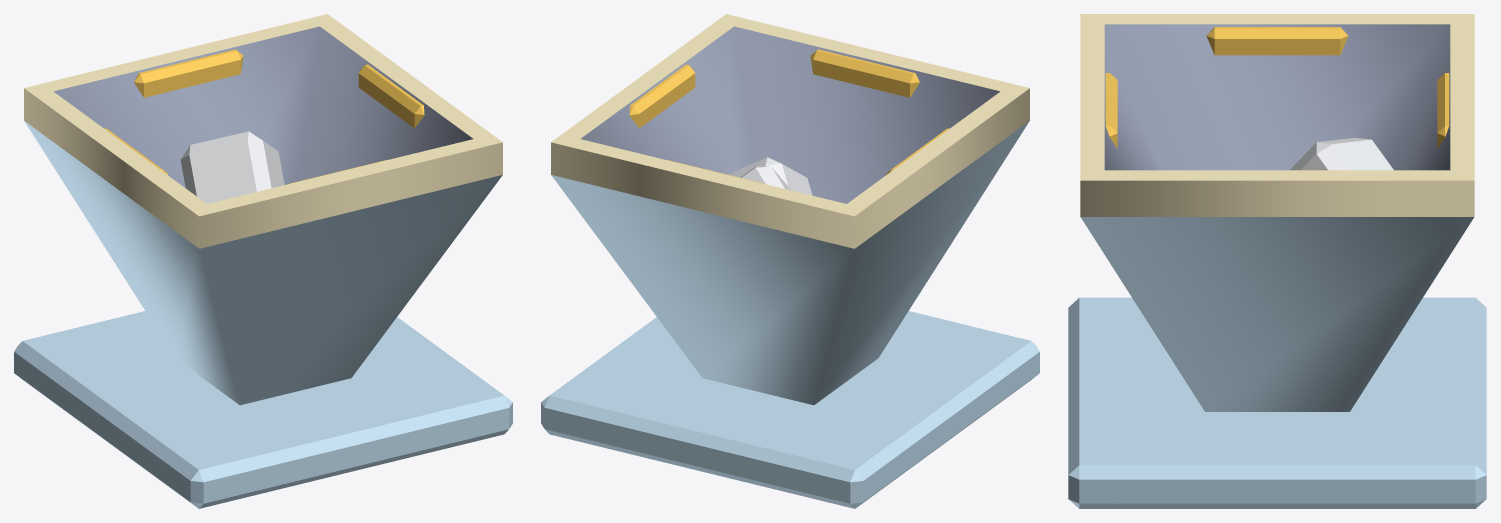
File: R4X_SalvageOptimizer_LOD1.glb
3 views of the same model, side by side, from view 1: azimuth 30°, elevation 25°; view 2: azimuth 150°, elevation 25°; view 3: azimuth 270°, elevation 25° (orthographic). The views are drawn at different scales.
Parts seen in each view (by area): view 1: R4X_SalvageOptimizer_LOD1; view 2: R4X_SalvageOptimizer_LOD1; view 3: R4X_SalvageOptimizer_LOD1.
Part boxes in pixels (box(x1,y1,x2,y2)): R4X_SalvageOptimizer_LOD1: box(14, 14, 512, 508); R4X_SalvageOptimizer_LOD1: box(541, 14, 1039, 508); R4X_SalvageOptimizer_LOD1: box(1068, 14, 1486, 508).
Bounding box in the file's own units: 0.52 × 0.45 × 0.52.
